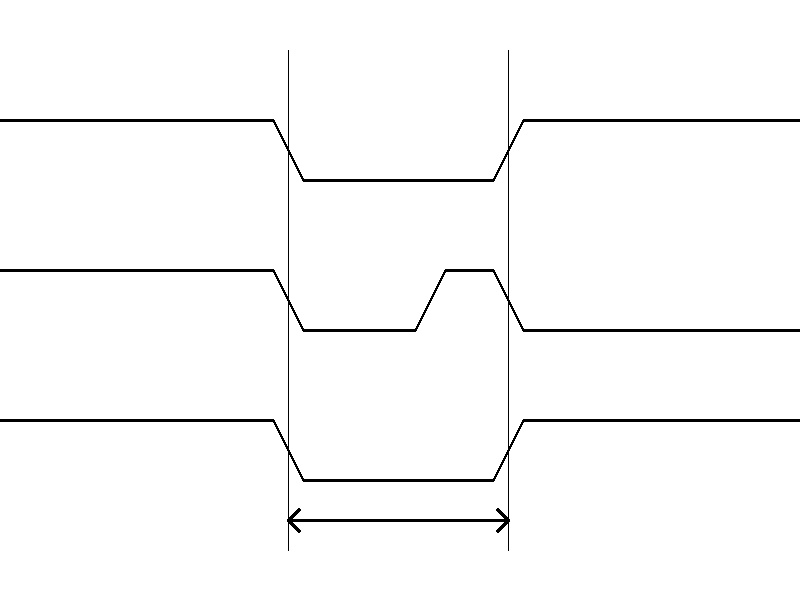double_arrow: (288, 505, 508, 535)
